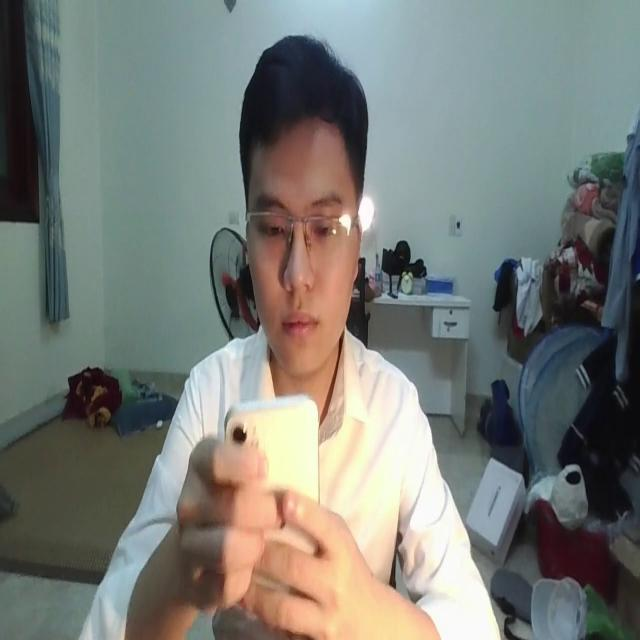phone: (226, 389, 325, 566)
student: (63, 33, 499, 640)
